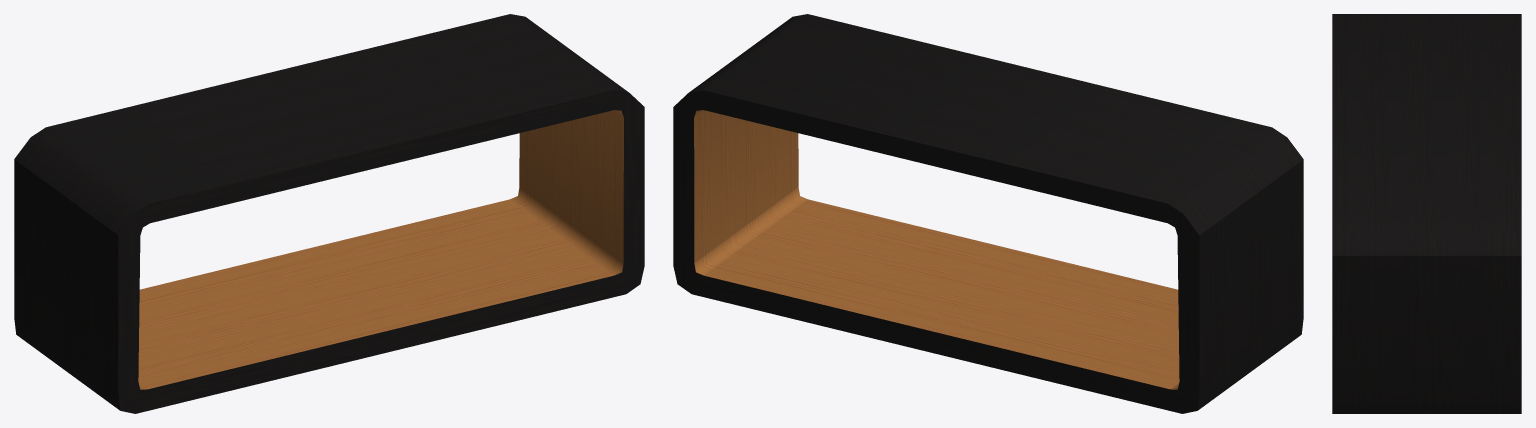
File: Wall_Shelf_01_E.FBX
3 renders of one model, left to right at view 1: azimuth 30°, elevation 25°; view 2: azimuth 150°, elevation 25°; view 3: azimuth 270°, elevation 25°, orthographic. The views are drawn at different scales.
Parts seen in each view (by area): view 1: Wall_Shelf; view 2: Wall_Shelf; view 3: Wall_Shelf.
Boxes of the visible parts, x1,y1,x2,y2 form: Wall_Shelf: (14, 14, 644, 413); Wall_Shelf: (673, 14, 1303, 413); Wall_Shelf: (1332, 14, 1521, 413).
Bounding box in the file's own units: 160 × 60.21 × 54.97.
